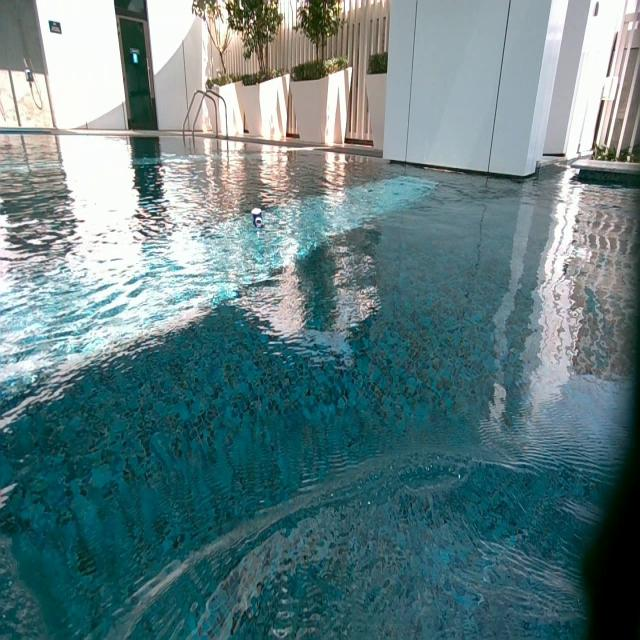Cans: (251, 208, 262, 227)
